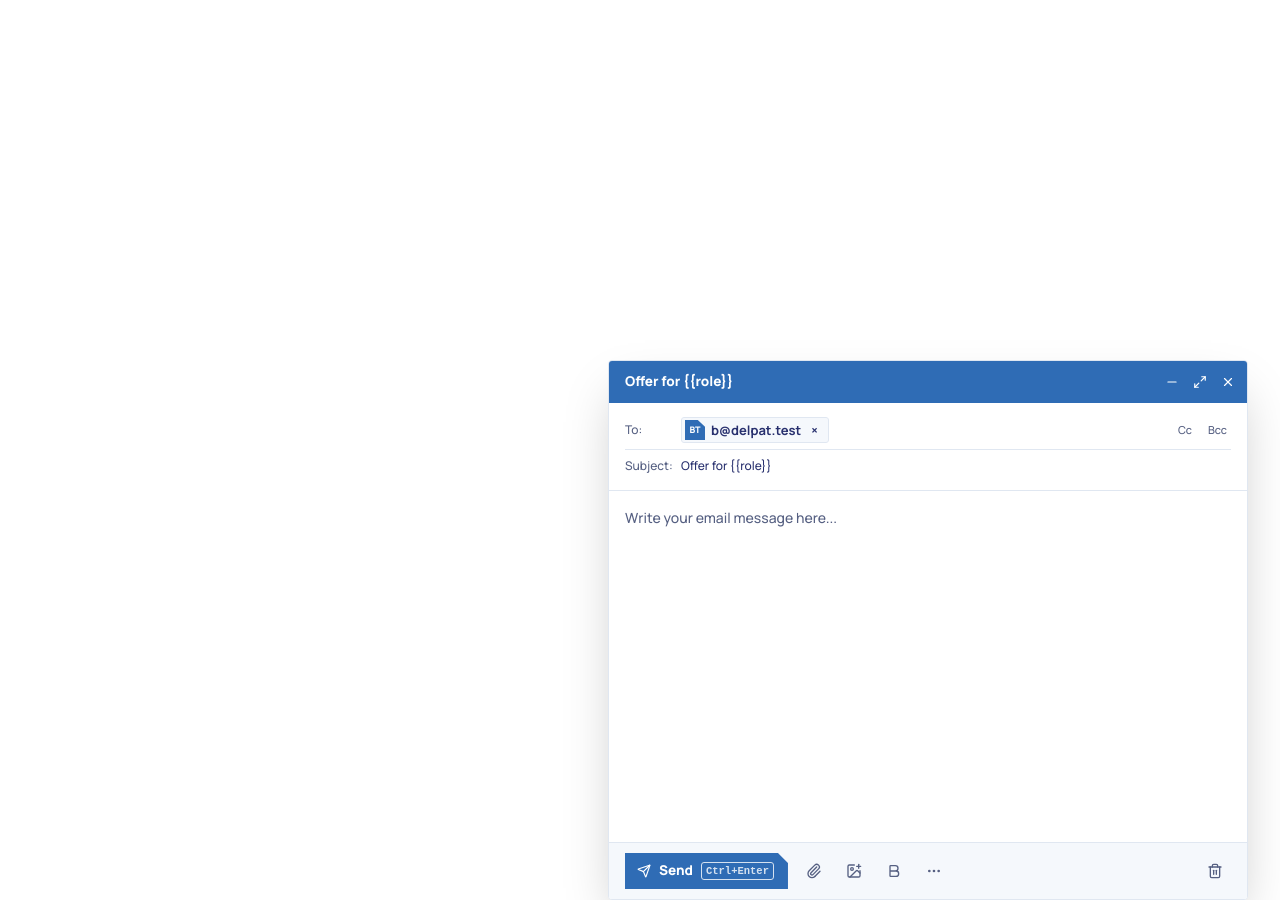
Test case: templates in the composer › blocks Send while a {{placeholder}} remains, and names it
Click the button "Send Ctrl+Enter" at (706, 871), box 625,853 -> 788,889
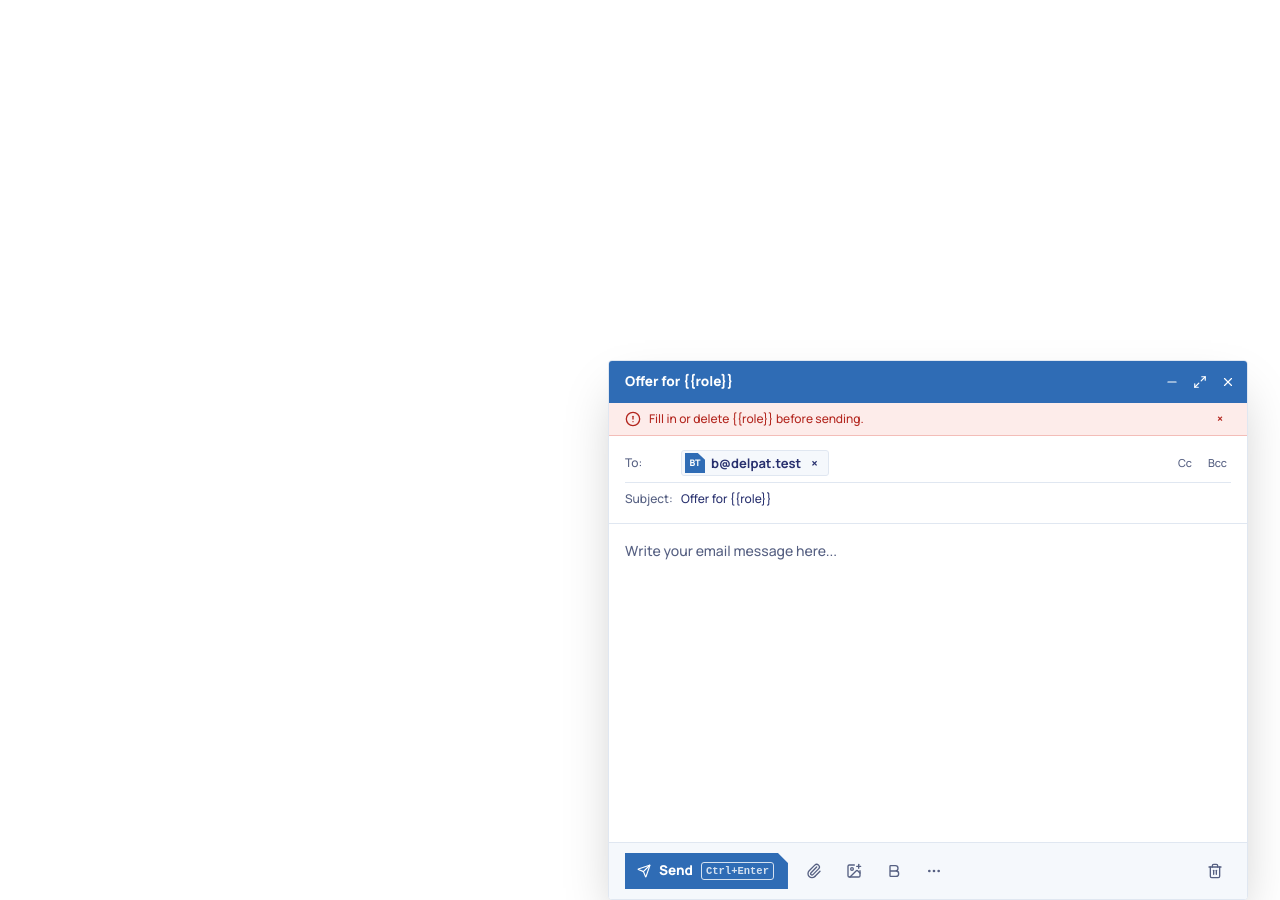
Result: the text "Fill in or delete {{role}} before sending." is shown at 649,410 -> 864,427
